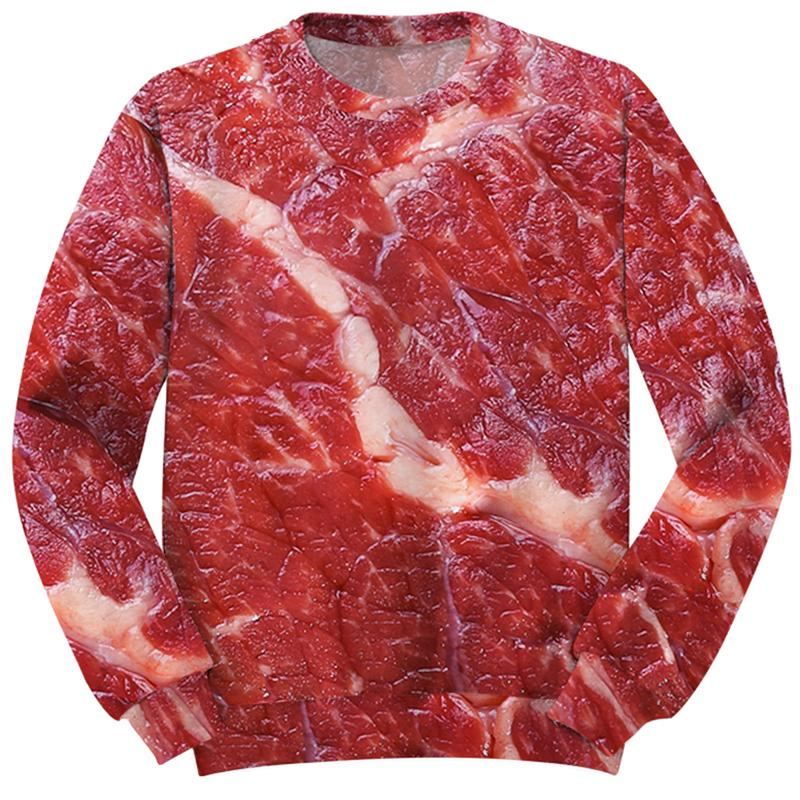bacon: (80, 61, 552, 491), (560, 189, 747, 552)
